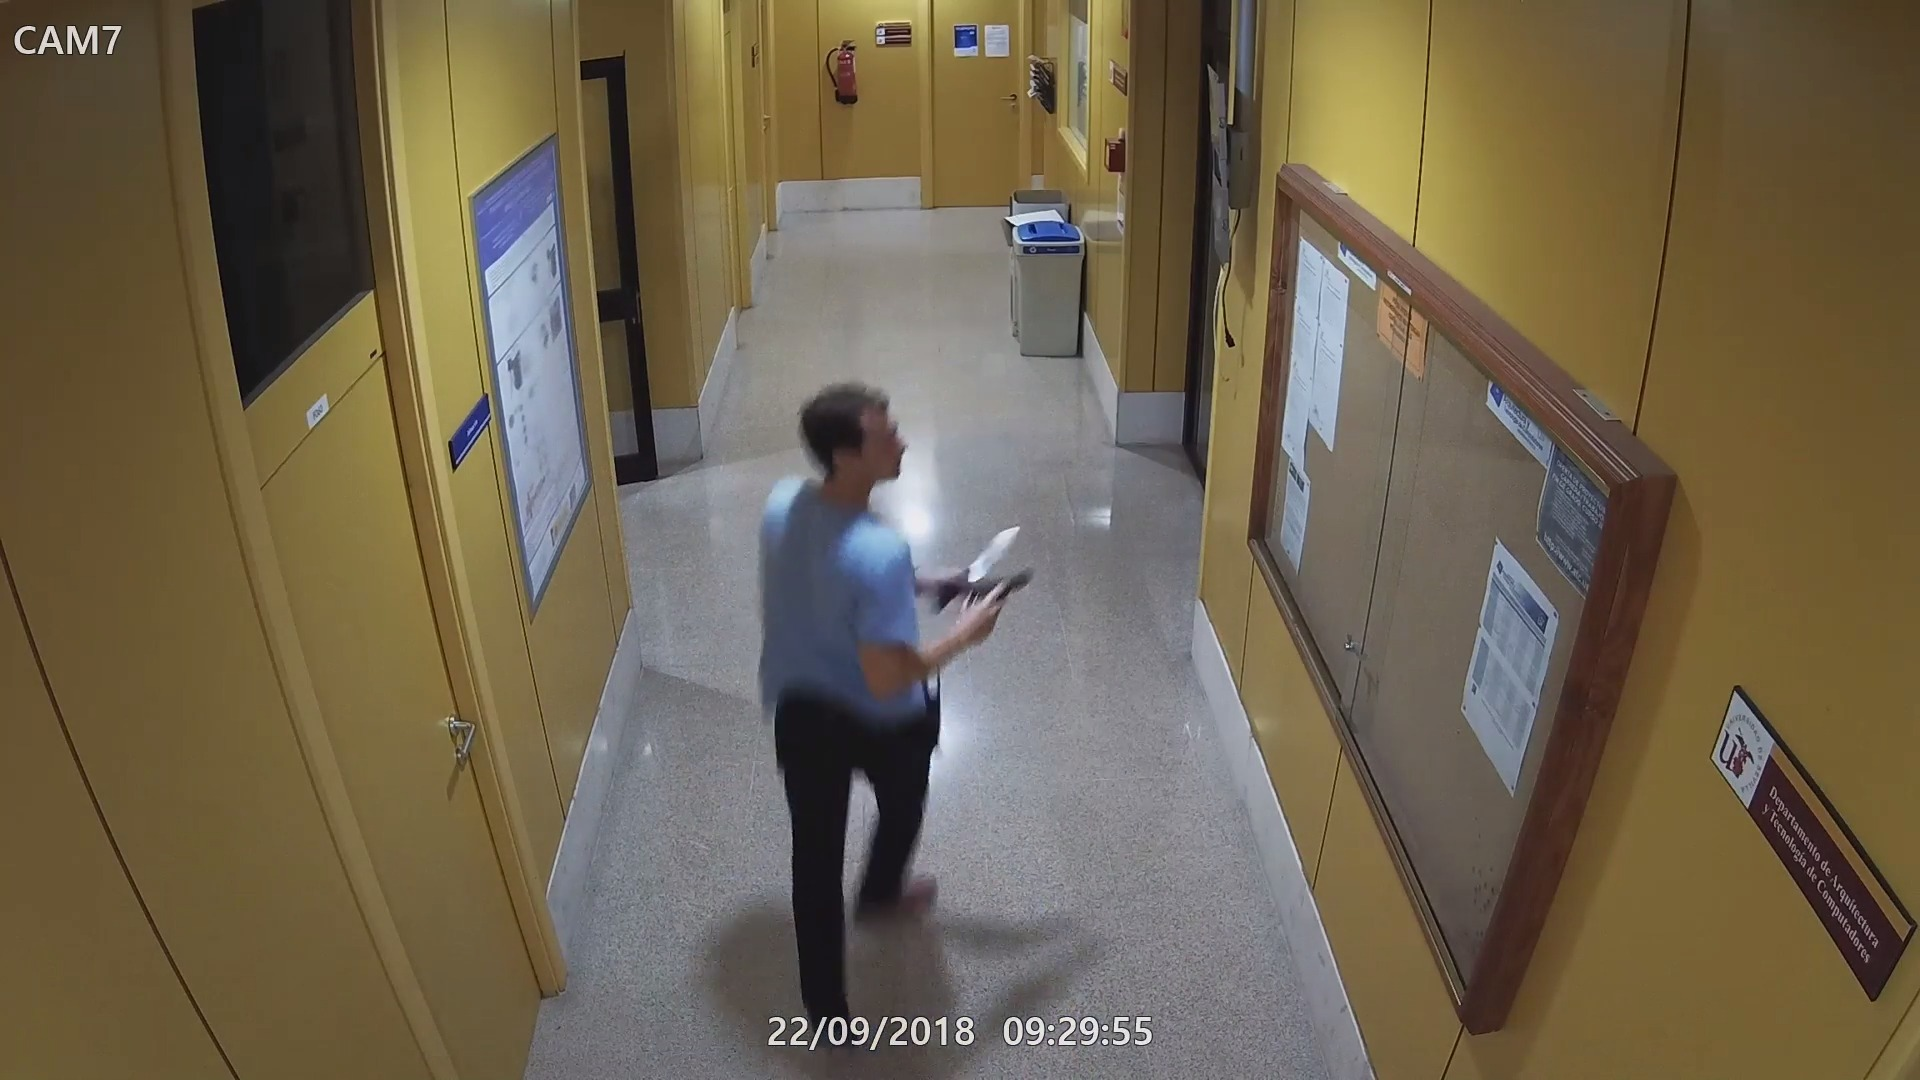Handgun: (963, 571, 1036, 650)
Knife: (938, 524, 1026, 604)
